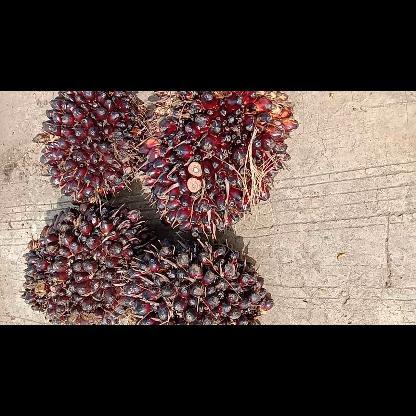TBS mentah: (138, 91, 298, 237), (20, 202, 162, 324), (116, 236, 278, 324), (31, 91, 149, 205)
